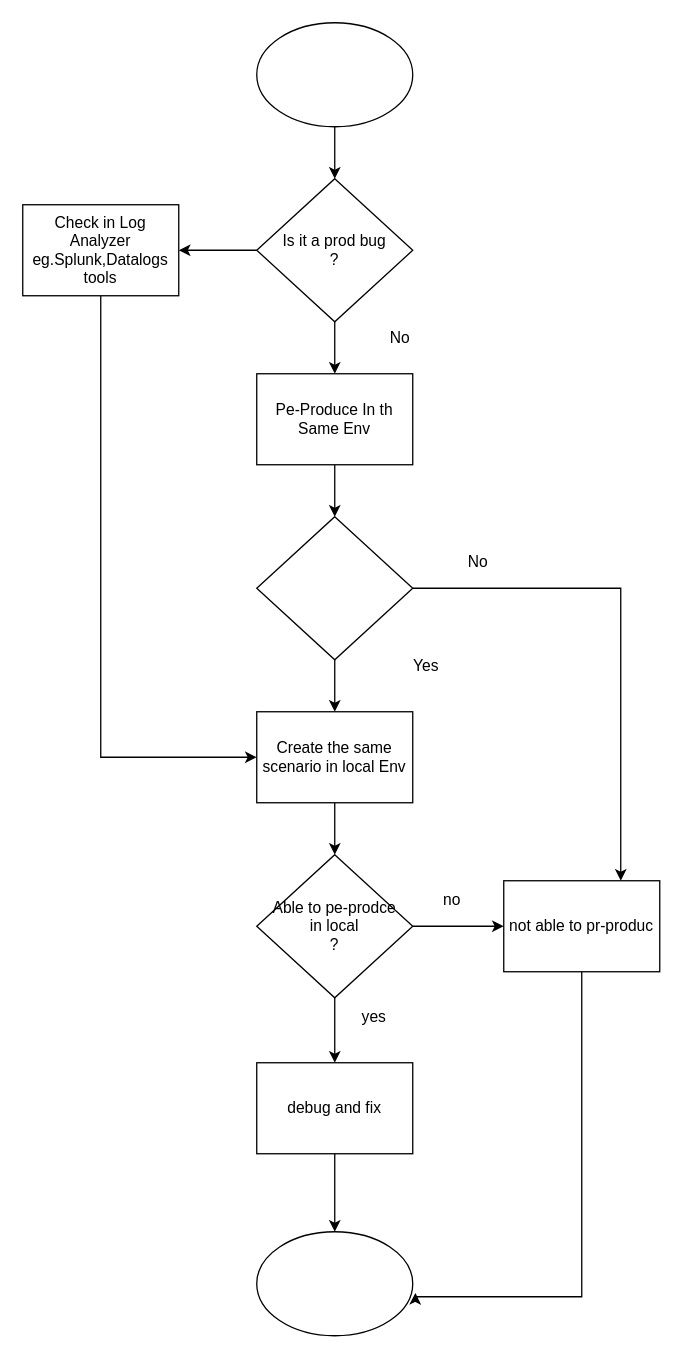
This 683x1359 diagram has some shape labels left out. Here are the shapes that lost their labels. From the top down, the centre of each, then its label:
the point at 334,74: Start
the point at 334,587: Able to pe-prodce ?
the point at 334,1283: End
